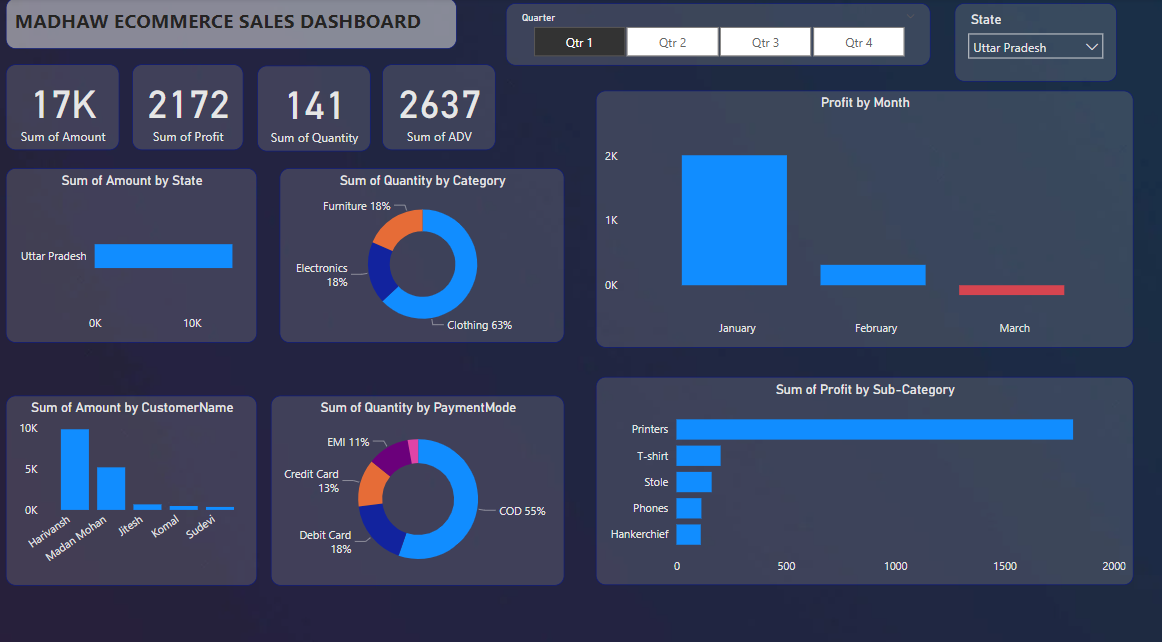

The page's visual inventory and layout, read from the dashboard file:
{"tool":"powerbi","page":{"name":"Page 1","canvas":[1280,720],"ordinal":0},"visuals":[{"type":"textbox","box":[9.6,0,495.4,56.3],"z":0},{"type":"columnChart","title":"Profit by Month","fields":{"Y":["Details.Profit"],"Category":["Orders.Order Date.Variation.Date Hierarchy.Month"]},"box":[657.3,101.5,590.1,282.7],"z":1000},{"type":"barChart","fields":{"Category":["Details.Sub-Category"],"Y":["Details.Profit"]},"box":[657.3,415.8,590.1,229.2],"z":2000},{"type":"donutChart","fields":{"Category":["Details.Category"],"Y":["Details.Quantity"]},"box":[310.1,186.6,312.9,192.1],"z":3000},{"type":"donutChart","fields":{"Category":["Details.PaymentMode"],"Y":["Details.Quantity"]},"box":[300.5,436.4,322.5,208.6],"z":4000},{"type":"card","fields":{"Values":["Details.Amount"]},"box":[9.6,72.7,124.9,94.7],"z":5000},{"type":"card","fields":{"Values":["Details.Profit"]},"box":[148.2,72.7,122.1,94.7],"z":6000},{"type":"card","fields":{"Values":["Details.Quantity"]},"box":[285.4,74.1,124.9,94.7],"z":7000},{"type":"card","fields":{"Values":["Details.ADV"]},"box":[422.6,72.7,124.9,94.7],"z":8000},{"type":"barChart","fields":{"Category":["Orders.State"],"Y":["Details.Amount"]},"box":[9.6,186.6,275.8,192.1],"z":9000},{"type":"columnChart","fields":{"Category":["Orders.CustomerName"],"Y":["Details.Amount"]},"box":[10,436,276,209],"z":10000},{"type":"slicer","fields":{"Values":["Orders.Order Date.Variation.Date Hierarchy.Quarter"]},"box":[558.5,5.5,466.6,68.6],"z":11000},{"type":"slicer","fields":{"Values":["Orders.State"]},"box":[1051.1,5.5,178.4,86.4],"z":11001}]}

Visuals, with their boxes in screenshot pixels (x1, y1, x2, y2), scaled from the page's 1280x720 canvas onto the 1162x642 screenshot:
textbox: {"x1": 9, "y1": 0, "x2": 458, "y2": 50}
"Profit by Month" columnChart: {"x1": 597, "y1": 91, "x2": 1132, "y2": 343}
barChart - Details.Sub-Category x Details.Profit: {"x1": 597, "y1": 371, "x2": 1132, "y2": 575}
donutChart - Details.Category x Details.Quantity: {"x1": 282, "y1": 166, "x2": 566, "y2": 338}
donutChart - Details.PaymentMode x Details.Quantity: {"x1": 273, "y1": 389, "x2": 566, "y2": 575}
card - Details.Amount: {"x1": 9, "y1": 65, "x2": 122, "y2": 149}
card - Details.Profit: {"x1": 135, "y1": 65, "x2": 245, "y2": 149}
card - Details.Quantity: {"x1": 259, "y1": 66, "x2": 372, "y2": 151}
card - Details.ADV: {"x1": 384, "y1": 65, "x2": 497, "y2": 149}
barChart - Orders.State x Details.Amount: {"x1": 9, "y1": 166, "x2": 259, "y2": 338}
columnChart - Orders.CustomerName x Details.Amount: {"x1": 9, "y1": 389, "x2": 260, "y2": 575}
slicer - Orders.Order Date.Variation.Date Hierarchy.Quarter: {"x1": 507, "y1": 5, "x2": 931, "y2": 66}
slicer - Orders.State: {"x1": 954, "y1": 5, "x2": 1116, "y2": 82}
